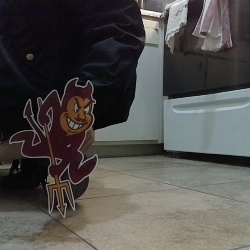sparky: (8, 76, 99, 218)
